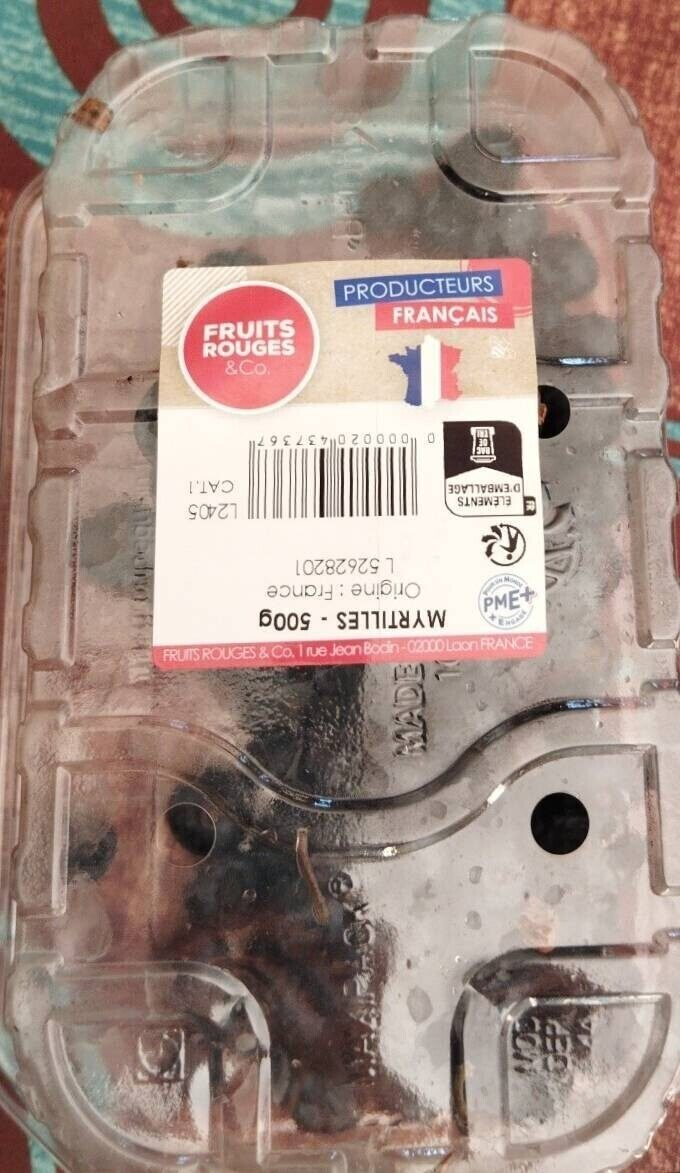Heidelbeeren: (34, 59, 646, 1114)
